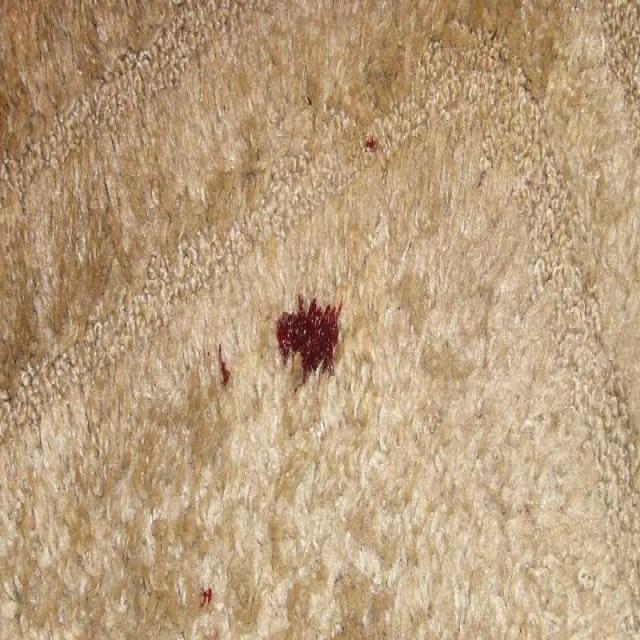flood: (274, 287, 346, 389)
